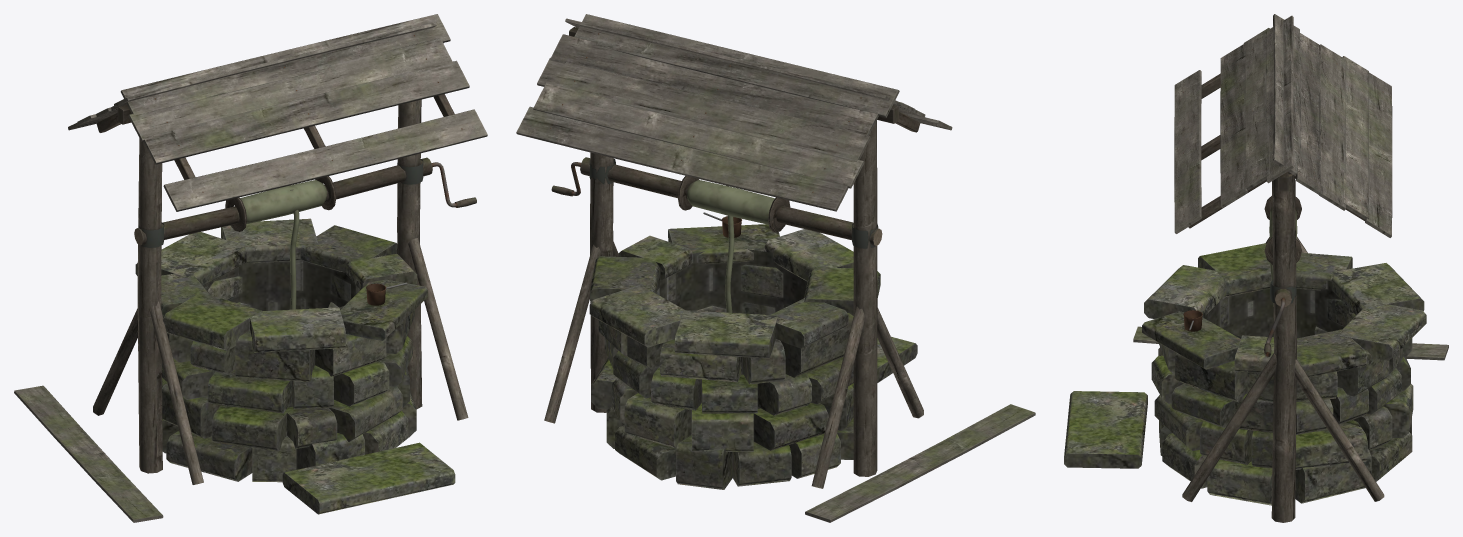
File: well.glb
The picture shows the model from 3 angles, left to right: view 1: azimuth 30°, elevation 25°; view 2: azimuth 150°, elevation 25°; view 3: azimuth 270°, elevation 25°; orthographic projection. The views are drawn at different scales.
Visible parts, largest first — view 1: well; view 2: well; view 3: well.
Boxes of the visible parts, x1,y1,x2,y2 form: well: [14, 14, 487, 522]; well: [516, 14, 1035, 522]; well: [1064, 14, 1448, 522].
Bounding box in the file's own units: 2.94 × 2.62 × 2.47.
1 material, 1 textured.
